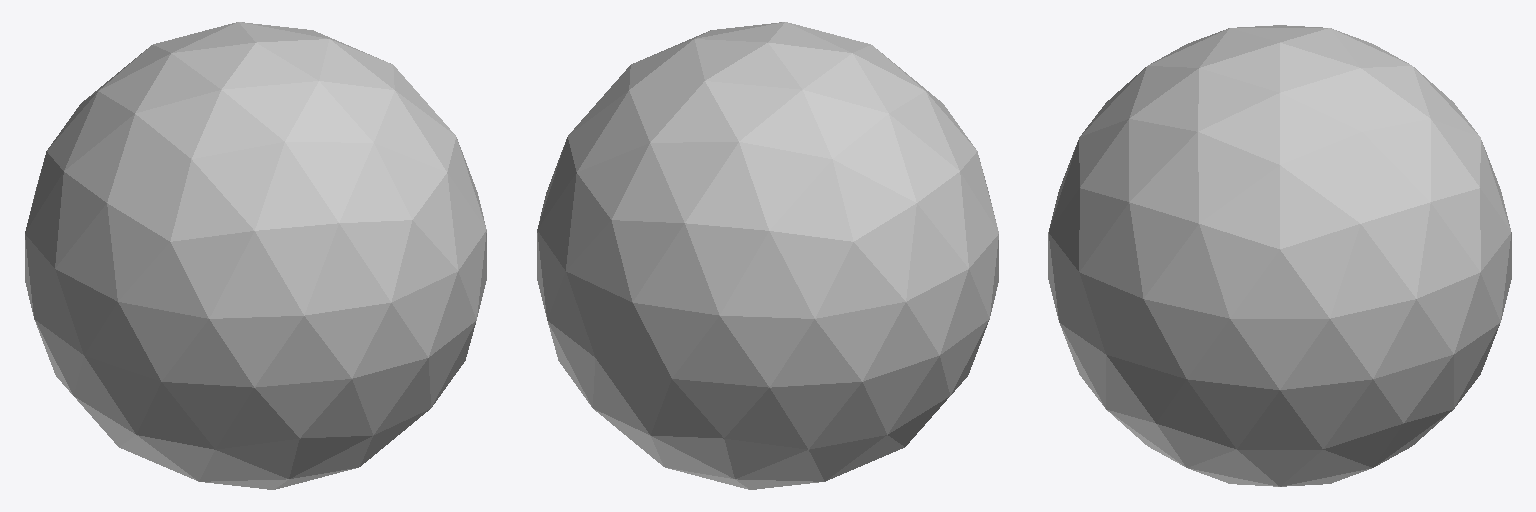
File: P_Ball_Stone_MF.obj
3 renders of one model, left to right at view 1: azimuth 30°, elevation 25°; view 2: azimuth 150°, elevation 25°; view 3: azimuth 270°, elevation 25°, orthographic.
Parts seen in each view (by area): view 1: P_Ball_Stone_MF; view 2: P_Ball_Stone_MF; view 3: P_Ball_Stone_MF.
Boxes of the visible parts, x1,y1,x2,y2 form: P_Ball_Stone_MF: [25, 22, 486, 489]; P_Ball_Stone_MF: [537, 22, 998, 489]; P_Ball_Stone_MF: [1048, 25, 1511, 486].
Bounding box in the file's own units: 4.08 × 4.15 × 4.07.